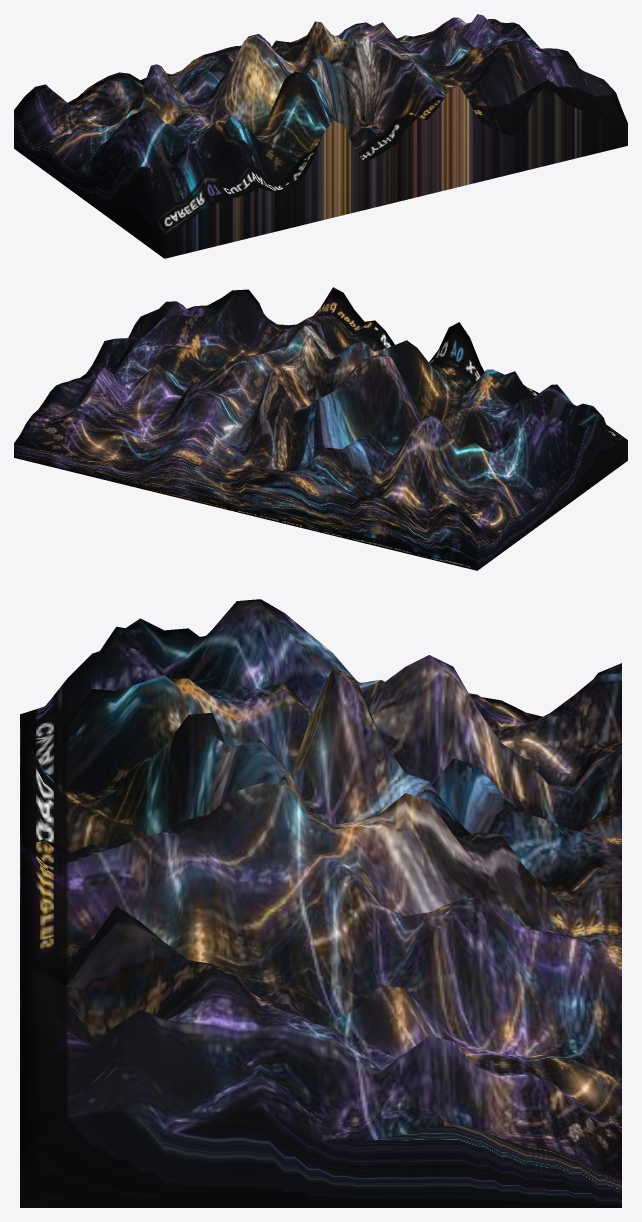
File: CAREER_07_VFX_04_Dao_Rhythm.glb
3 renders of one model, top to bottom at view 1: azimuth 30°, elevation 25°; view 2: azimuth 150°, elevation 25°; view 3: azimuth 270°, elevation 25°, orthographic. The views are drawn at different scales.
Parts seen in each view (by area): view 1: CAREER_07_VFX_04_Dao_Rhythm; view 2: CAREER_07_VFX_04_Dao_Rhythm; view 3: CAREER_07_VFX_04_Dao_Rhythm.
Part boxes in pixels (x1=…): CAREER_07_VFX_04_Dao_Rhythm: x1=14, y1=14, x2=627, y2=258; CAREER_07_VFX_04_Dao_Rhythm: x1=14, y1=287, x2=627, y2=570; CAREER_07_VFX_04_Dao_Rhythm: x1=20, y1=599, x2=621, y2=1207.
Bounding box in the file's own units: 2 × 0.51 × 1.13.
1 material, 1 textured.
